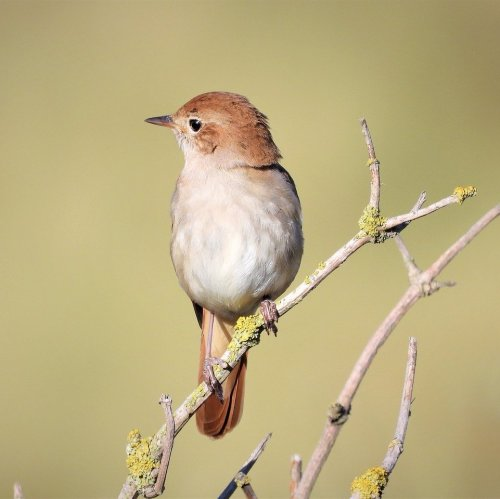соловей: (111, 75, 332, 446)
